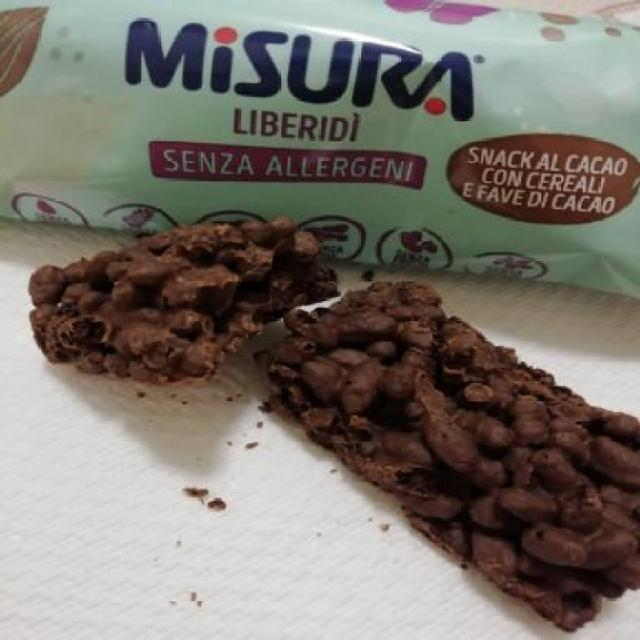Cereal bar: (3, 8, 640, 297)
Cereal bar packaged: (276, 282, 638, 635), (47, 233, 304, 384)
